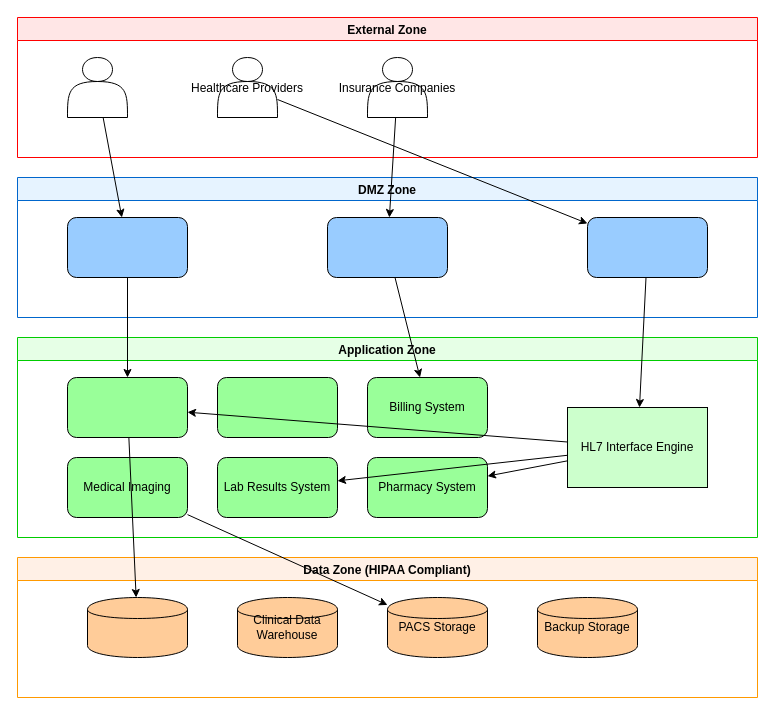
Image size: 775x715. Some labels were removed from this diagram. The shapes that lost their labels are listed below. From the top down, each one's centre as x and y in pixels, then its label:
[97,87]: Patients
[127,247]: Patient Portal
[387,247]: API Gateway
[647,247]: VPN Gateway
[127,407]: EHR System
[277,407]: Appointment System
[137,627]: Patient Database
